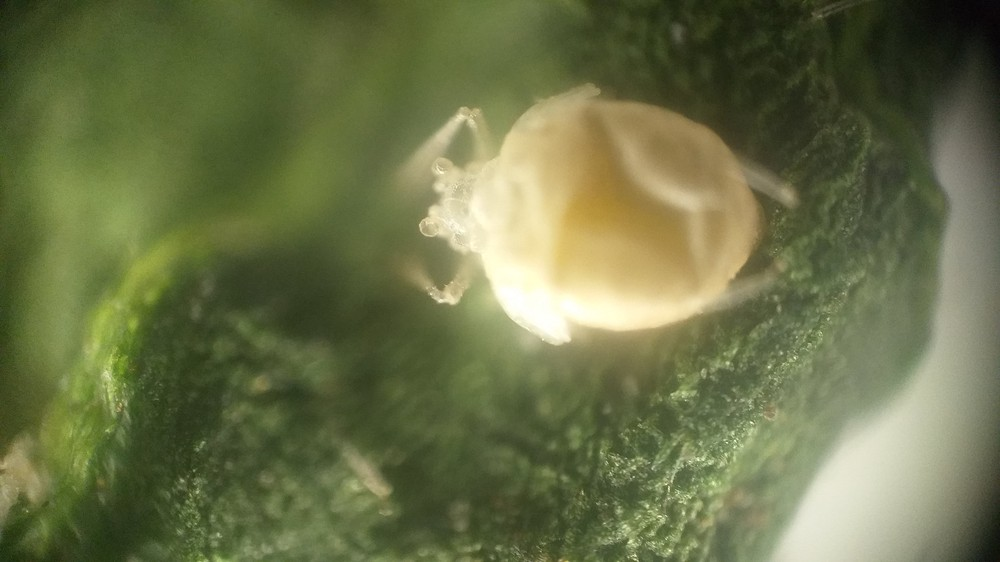Pulgon: (398, 88, 830, 357)
